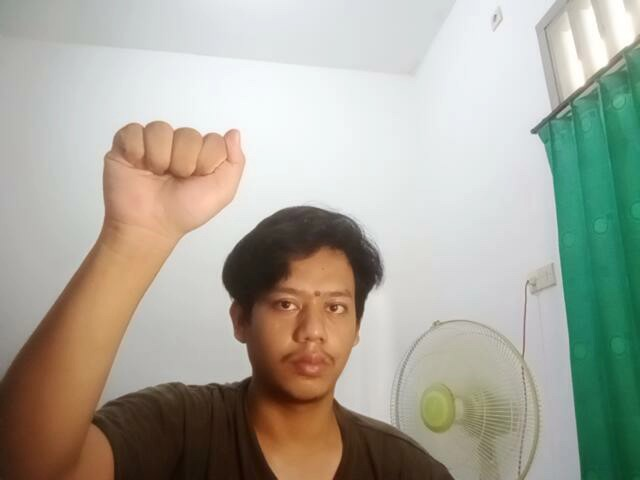A: (97, 116, 250, 246)
